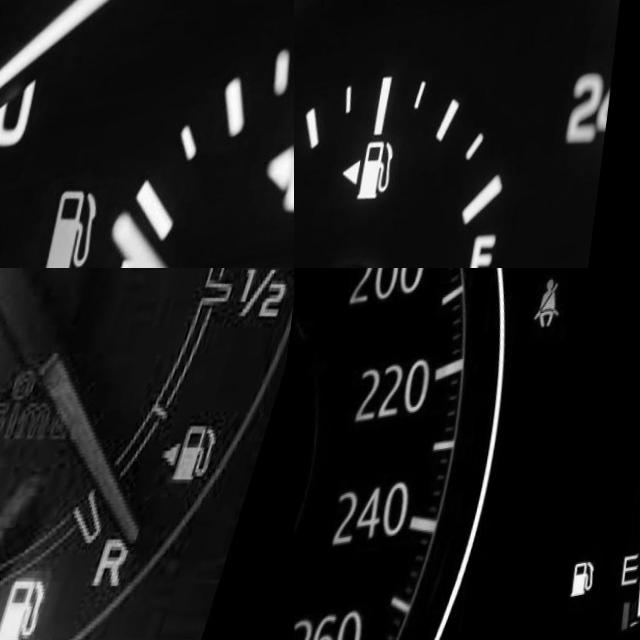Seat Belt: (539, 291, 569, 339)
